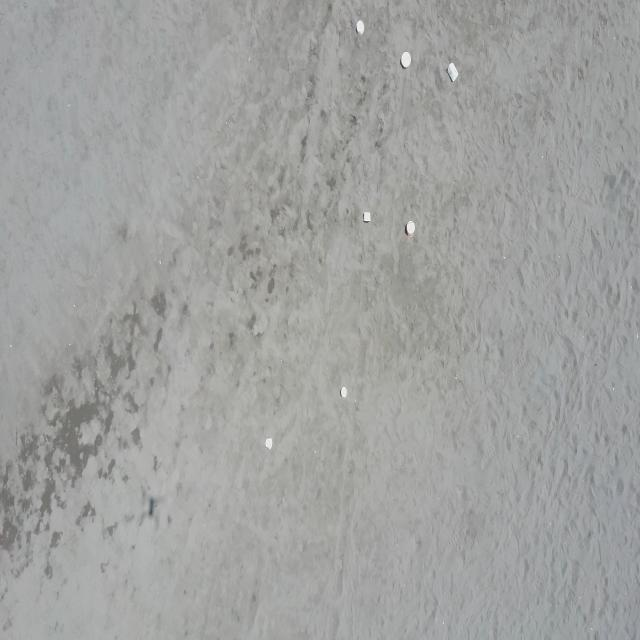take-away-containers: (447, 62, 459, 82), (401, 51, 412, 68), (406, 220, 415, 237), (362, 210, 372, 222), (356, 20, 364, 34), (340, 386, 348, 398), (266, 438, 272, 449)
